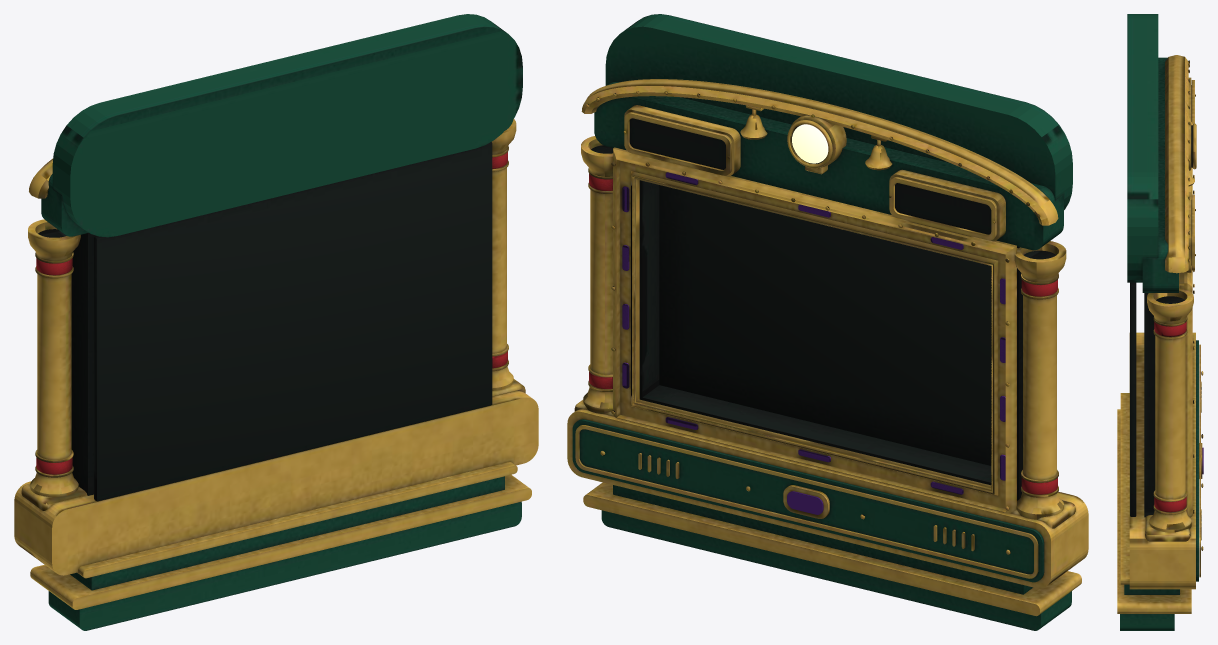
The picture shows the model from 3 angles, left to right: view 1: azimuth 30°, elevation 25°; view 2: azimuth 150°, elevation 25°; view 3: azimuth 270°, elevation 25°; orthographic projection. The views are drawn at different scales.
Visible parts, largest first — view 1: Uniform_dark_inset, Deep_green_enamel, Polished_golden_brass, Locomotive_red_enamel; view 2: Polished_golden_brass, Uniform_dark_inset, Deep_green_enamel, Royal_purple_enamel, Locomotive_red_enamel, Headlamp_warm_glow; view 3: Polished_golden_brass, Deep_green_enamel, Uniform_dark_inset, Locomotive_red_enamel.
Boxes of the visible parts, <box> form: Uniform_dark_inset: <box>38,142,492,501</box>; Deep_green_enamel: <box>41,14,522,630</box>; Polished_golden_brass: <box>14,119,538,609</box>; Locomotive_red_enamel: <box>36,152,507,474</box>; Polished_golden_brass: <box>567,79,1088,616</box>; Uniform_dark_inset: <box>591,118,1056,500</box>; Deep_green_enamel: <box>572,14,1072,630</box>; Royal_purple_enamel: <box>622,172,1005,514</box>; Locomotive_red_enamel: <box>589,174,1057,494</box>; Headlamp_warm_glow: <box>792,124,828,163</box>; Polished_golden_brass: <box>1117,55,1203,613</box>; Deep_green_enamel: <box>1120,14,1198,630</box>; Uniform_dark_inset: <box>1130,85,1192,517</box>; Locomotive_red_enamel: <box>1154,321,1186,512</box>.
Size of the model in its own units: 9.3 by 9.2 by 1.63.
6 materials, 5 textured.
